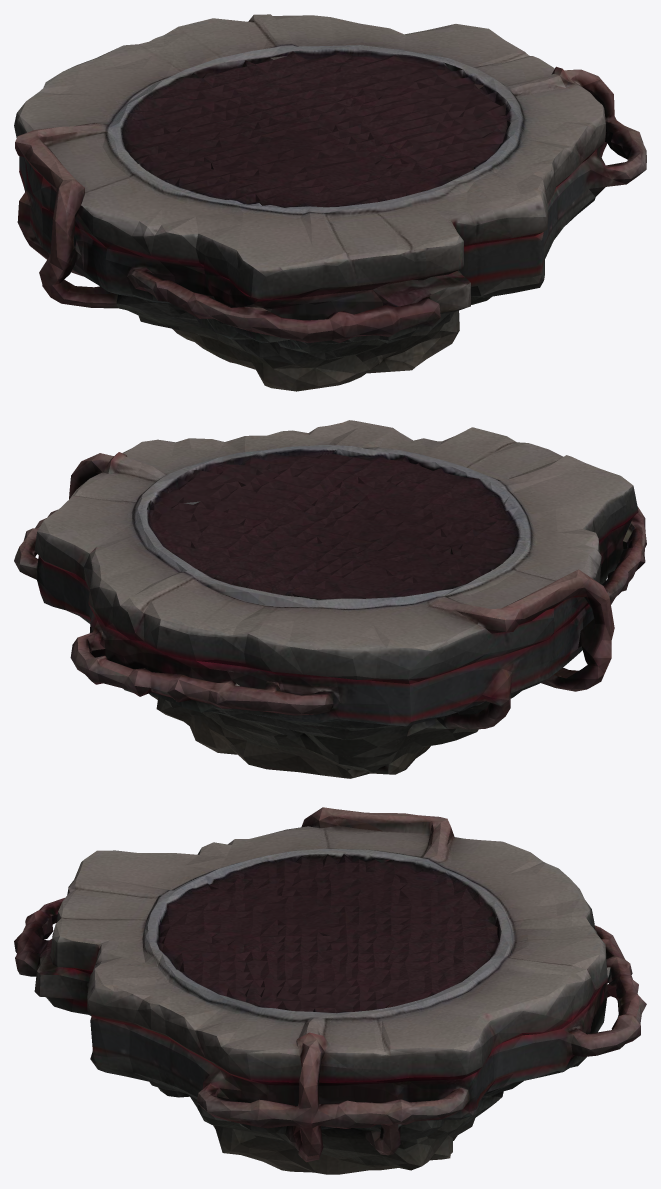
File: forge_ledge.glb
The picture shows the model from 3 angles, top to bottom: view 1: azimuth 30°, elevation 25°; view 2: azimuth 150°, elevation 25°; view 3: azimuth 270°, elevation 25°; orthographic projection. The views are drawn at different scales.
Visible parts, largest first — view 1: tmpsvfp15bw.ply; view 2: tmpsvfp15bw.ply; view 3: tmpsvfp15bw.ply.
Part boxes in pixels (left/top/right/bottom): tmpsvfp15bw.ply: left=14, top=14, right=646, bottom=391; tmpsvfp15bw.ply: left=14, top=420, right=646, bottom=778; tmpsvfp15bw.ply: left=14, top=807, right=646, bottom=1174.
Size of the model in its own units: 1.98 by 0.7691 by 2.
Materials: 1 (1 with a texture image).
